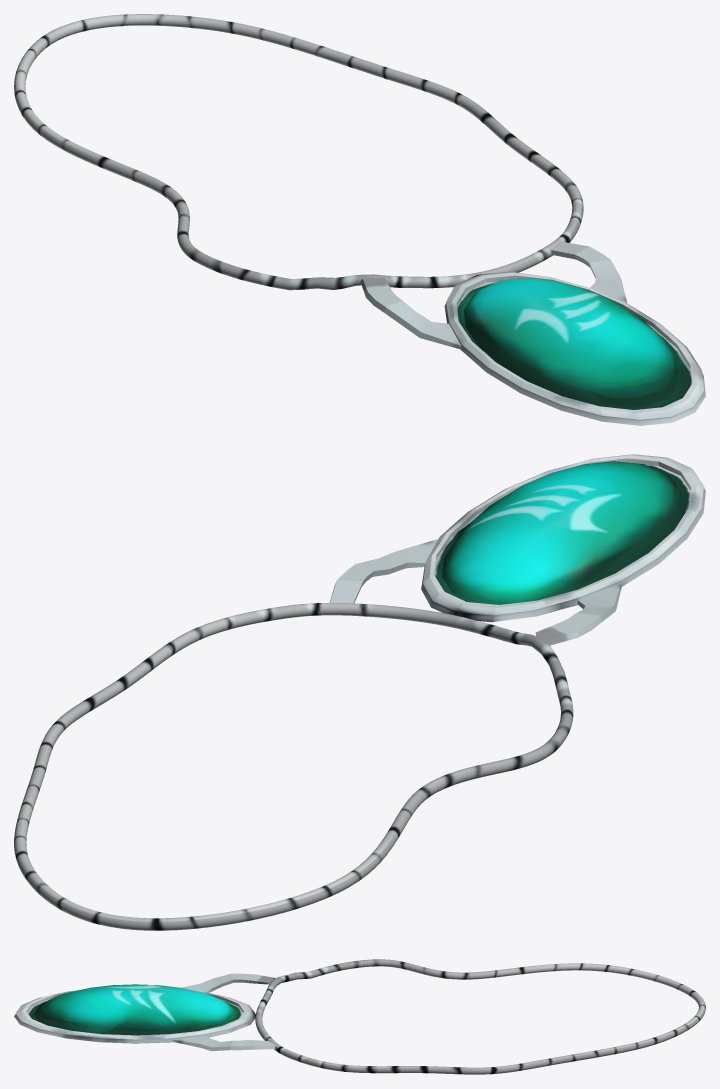
File: Speedpowerup.fbx
3 renders of one model, top to bottom at view 1: azimuth 30°, elevation 25°; view 2: azimuth 150°, elevation 25°; view 3: azimuth 270°, elevation 25°, orthographic. The views are drawn at different scales.
Parts seen in each view (by area): view 1: amulet, chain; view 2: amulet, chain; view 3: amulet, chain.
Part boxes in pixels (bbox=[...]): amulet: bbox=[360, 241, 705, 425]; chain: bbox=[14, 14, 583, 290]; amulet: bbox=[329, 454, 705, 645]; chain: bbox=[14, 603, 573, 930]; amulet: bbox=[14, 973, 275, 1051]; chain: bbox=[255, 959, 705, 1074].
Size of the model in its own units: 74.17 by 8.73 by 195.
Materials: 1 (1 with a texture image).
